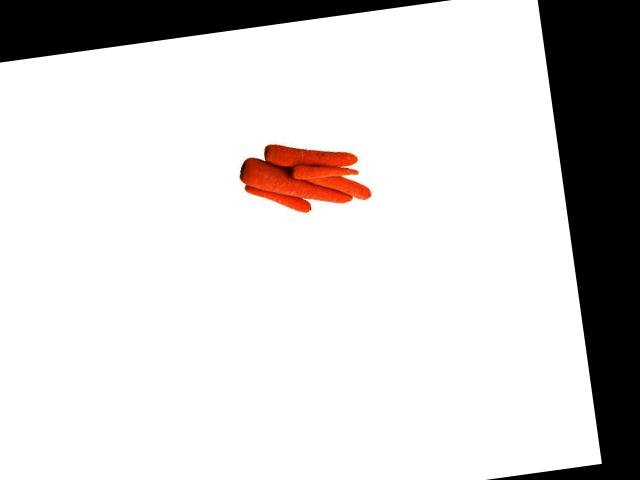carrot: (259, 136, 361, 173)
